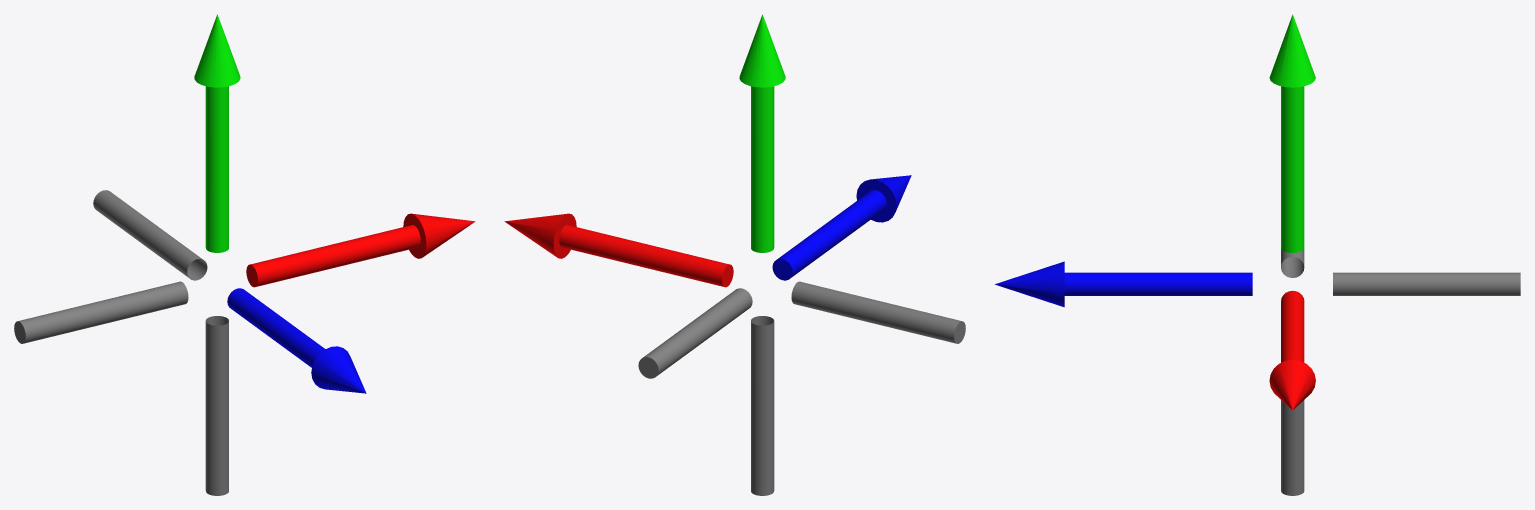
The model's file is gizmo.obj.
3 views of the same model, side by side, from view 1: azimuth 30°, elevation 25°; view 2: azimuth 150°, elevation 25°; view 3: azimuth 270°, elevation 25° (orthographic).
Parts seen in each view (by area): view 1: group1 cylinder2, cylinder group1, group1 cylinder5, group1 cylinder4, group1 cylinder1, group1 cylinder3, group1 cone2, group1 cone1, group1 cone; view 2: group1 cylinder2, cylinder group1, group1 cylinder5, group1 cylinder4, group1 cylinder1, group1 cylinder3, group1 cone2, group1 cone, group1 cone1; view 3: group1 cylinder3, group1 cylinder1, group1 cylinder4, group1 cylinder2, group1 cone2, group1 cone1, group1 cone, group1 cylinder5, cylinder group1.
Part boxes in pixels (bbox=[...]): group1 cylinder2: bbox=[205, 316, 228, 495]; cylinder group1: bbox=[14, 281, 188, 343]; group1 cylinder5: bbox=[246, 225, 420, 287]; group1 cylinder4: bbox=[205, 86, 228, 252]; group1 cylinder1: bbox=[93, 190, 207, 280]; group1 cylinder3: bbox=[227, 288, 325, 367]; group1 cone2: bbox=[194, 14, 240, 87]; group1 cone1: bbox=[311, 346, 366, 393]; group1 cone: bbox=[403, 213, 475, 258]; group1 cylinder2: bbox=[751, 316, 774, 495]; cylinder group1: bbox=[791, 281, 965, 343]; group1 cylinder5: bbox=[559, 225, 733, 287]; group1 cylinder4: bbox=[751, 86, 774, 252]; group1 cylinder1: bbox=[638, 288, 752, 378]; group1 cylinder3: bbox=[772, 190, 886, 280]; group1 cone2: bbox=[739, 14, 785, 87]; group1 cone: bbox=[504, 213, 576, 258]; group1 cone1: bbox=[856, 175, 911, 222]; group1 cylinder3: bbox=[1064, 272, 1252, 295]; group1 cylinder1: bbox=[1333, 272, 1520, 295]; group1 cylinder4: bbox=[1281, 86, 1304, 252]; group1 cylinder2: bbox=[1281, 400, 1304, 495]; group1 cone2: bbox=[1269, 14, 1315, 87]; group1 cone1: bbox=[995, 261, 1064, 307]; group1 cone: bbox=[1269, 359, 1315, 410]; group1 cylinder5: bbox=[1281, 290, 1304, 362]; cylinder group1: bbox=[1281, 249, 1304, 277].
Bounding box in the file's own units: 11.21 × 11.21 × 11.21.
